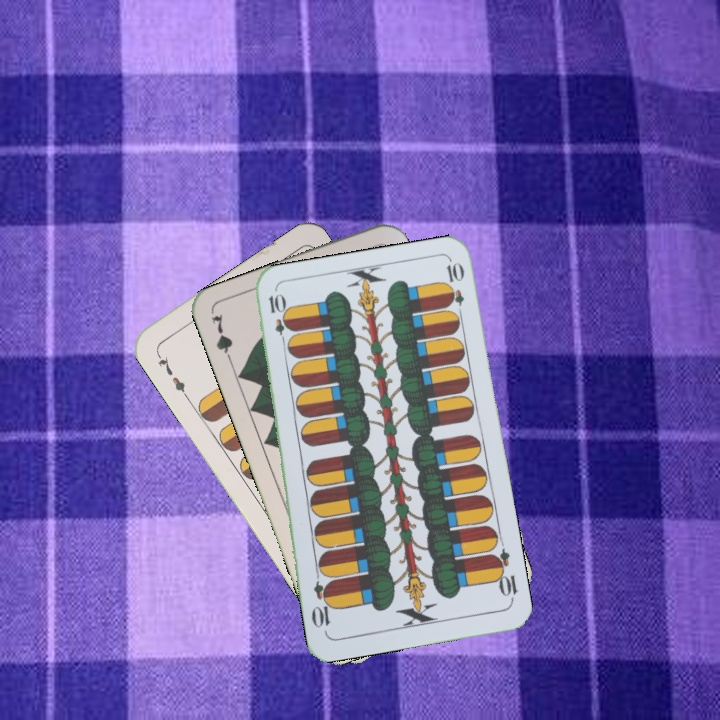E10: (487, 545, 520, 604), (264, 290, 291, 349)
E7: (152, 349, 191, 401)
G7: (207, 310, 236, 368)
